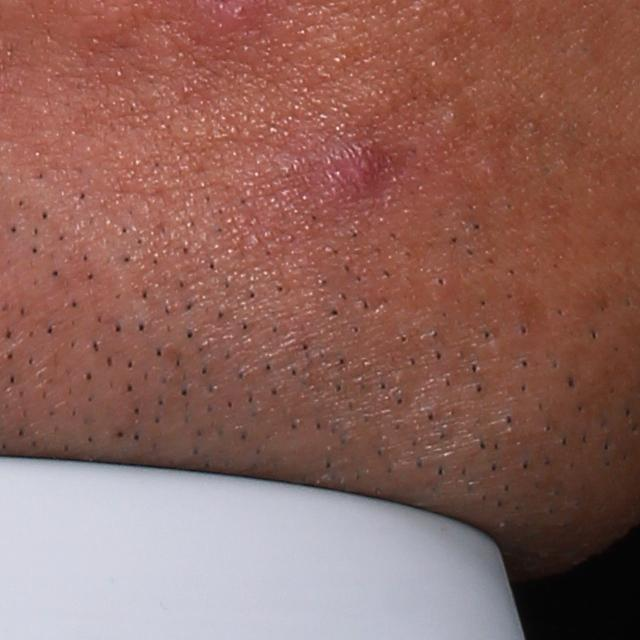papule: (328, 150, 400, 199)
